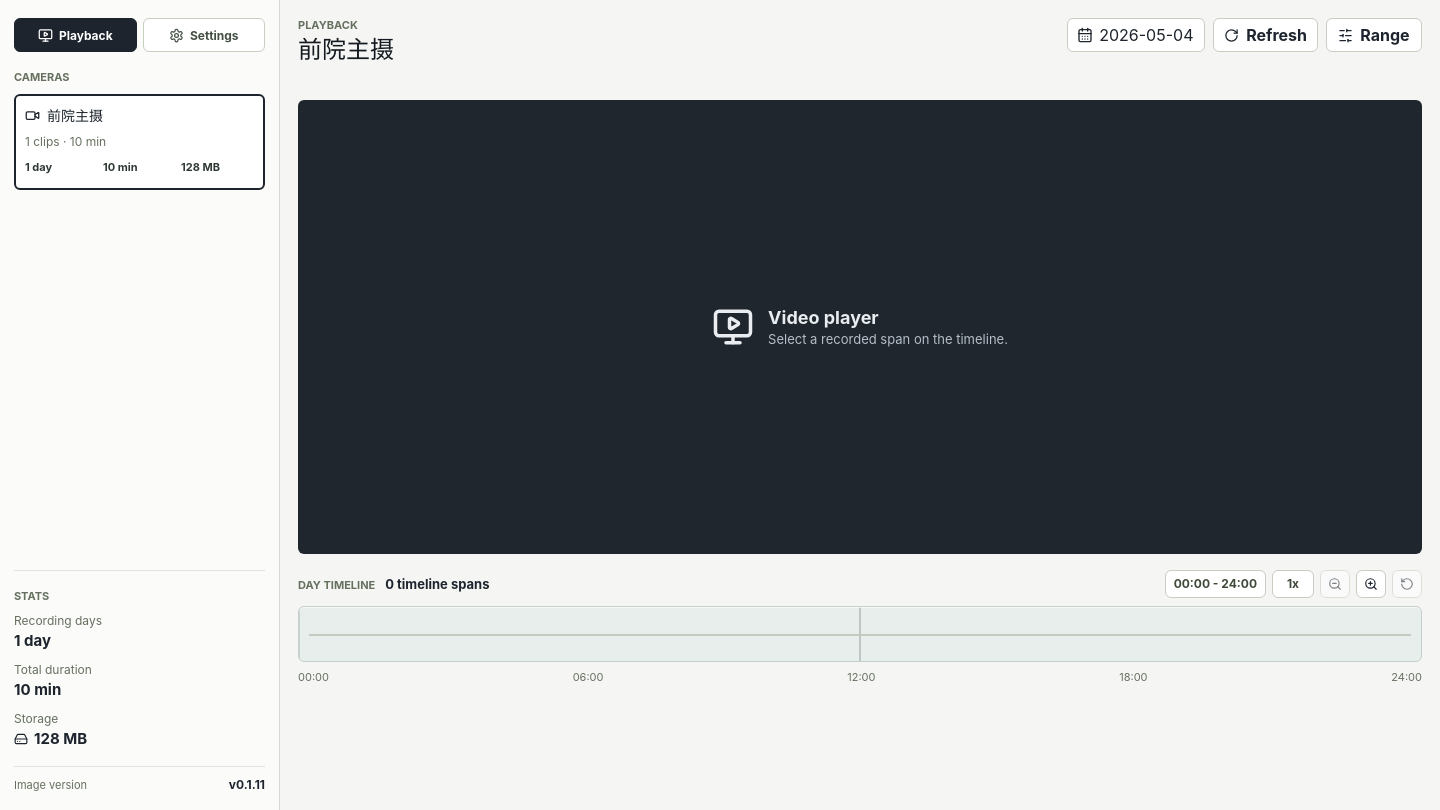
App › changes the app password from settings
The image size is (1440, 810).
Click the button "Settings": (204, 35) [142,18,265,52]
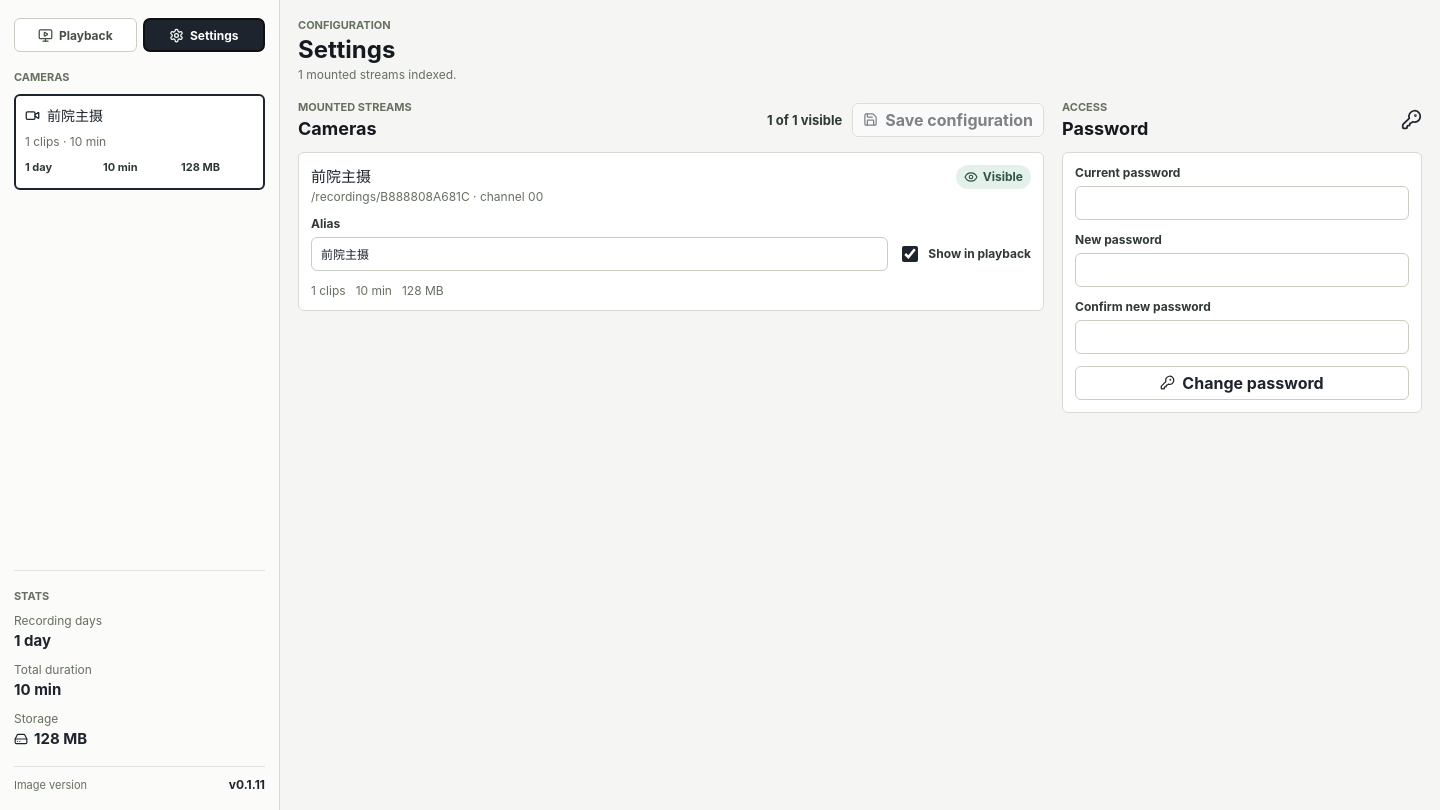
In the password field labelled "Current password": (1242, 203) [1075,186,1409,220], type "old-password"
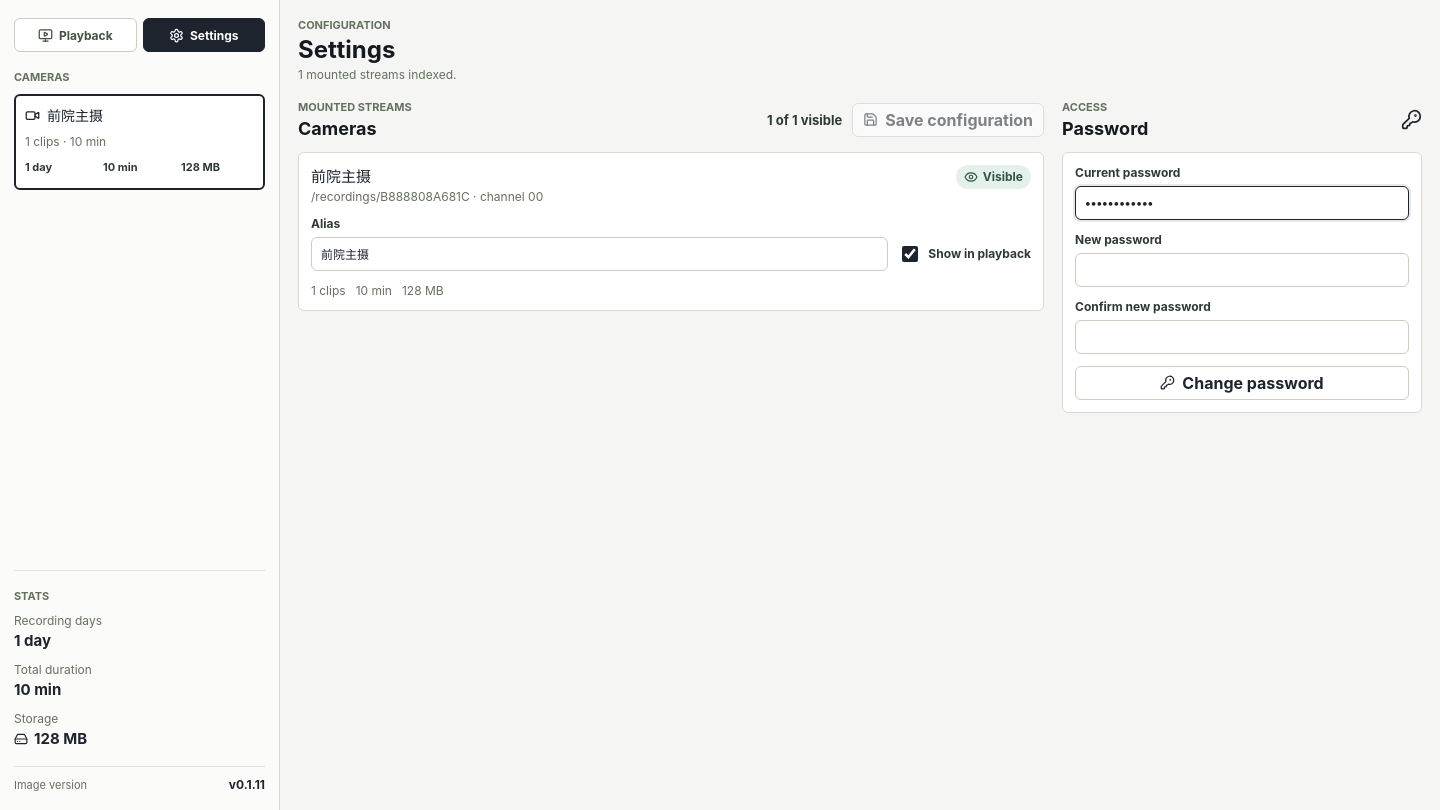
In the password field labelled "New password": (1242, 270) [1075,253,1409,287], type "new-password-123"
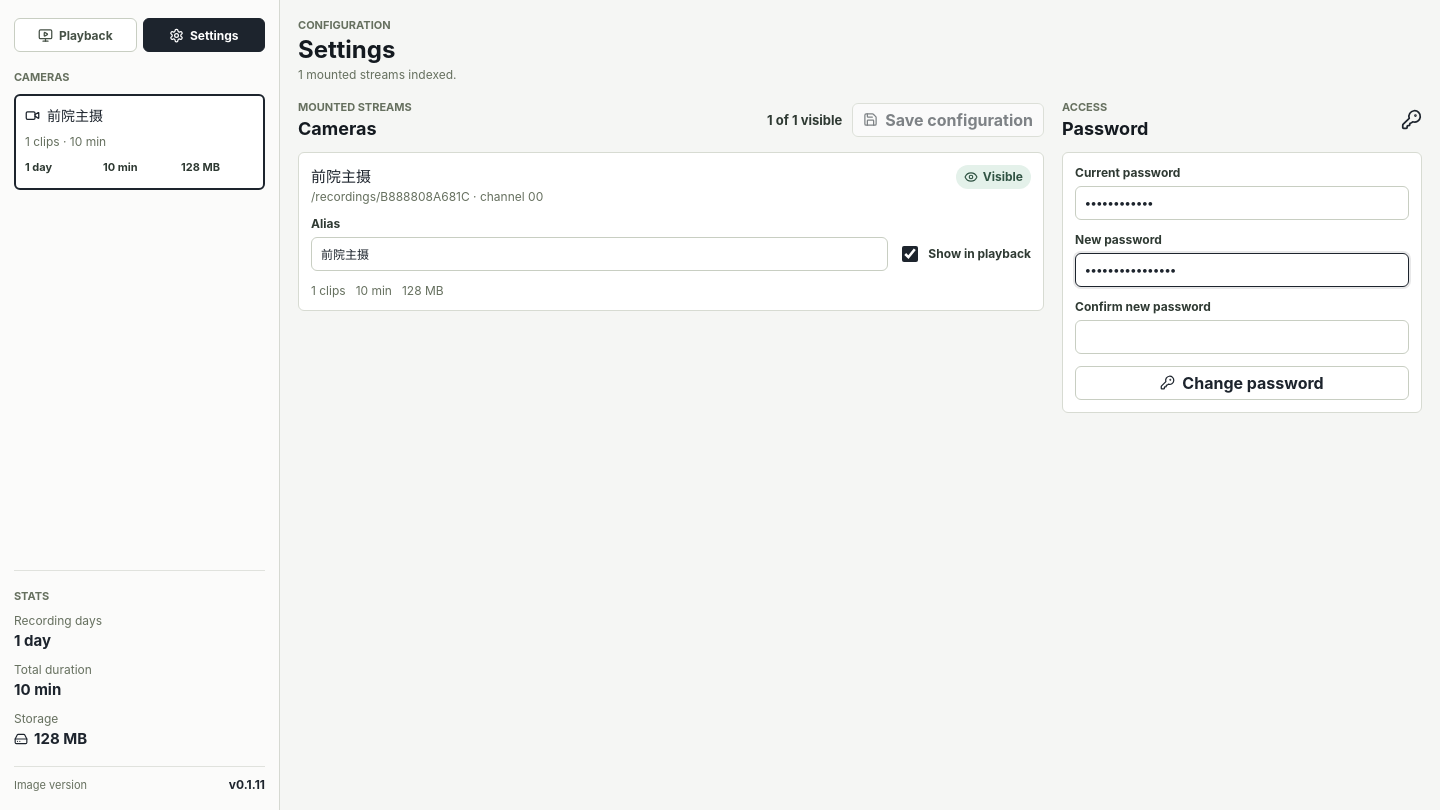
In the password field labelled "Confirm new password": (1242, 337) [1075,320,1409,354], type "new-password-123"
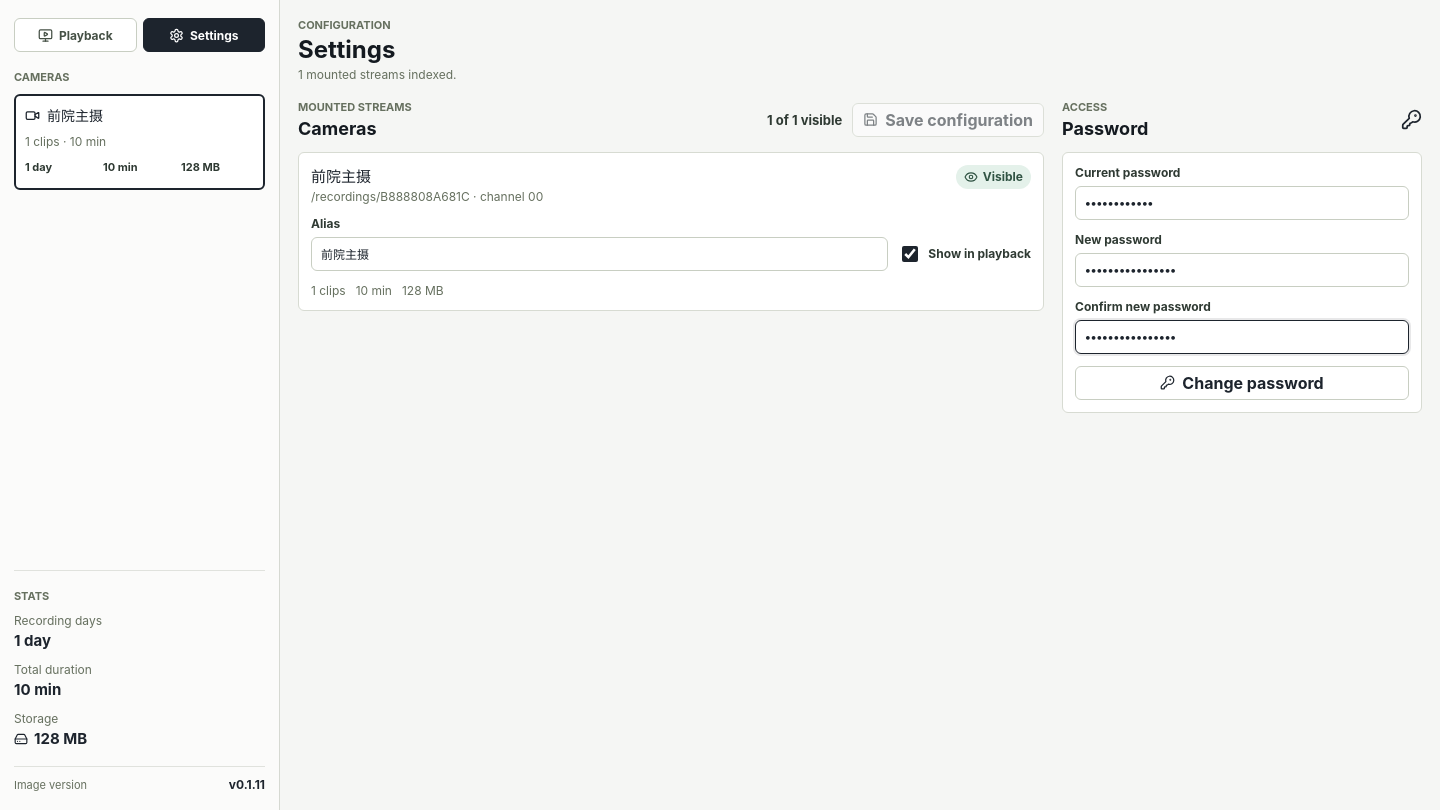
Click the button "Change password": (1242, 383) [1075,366,1409,400]
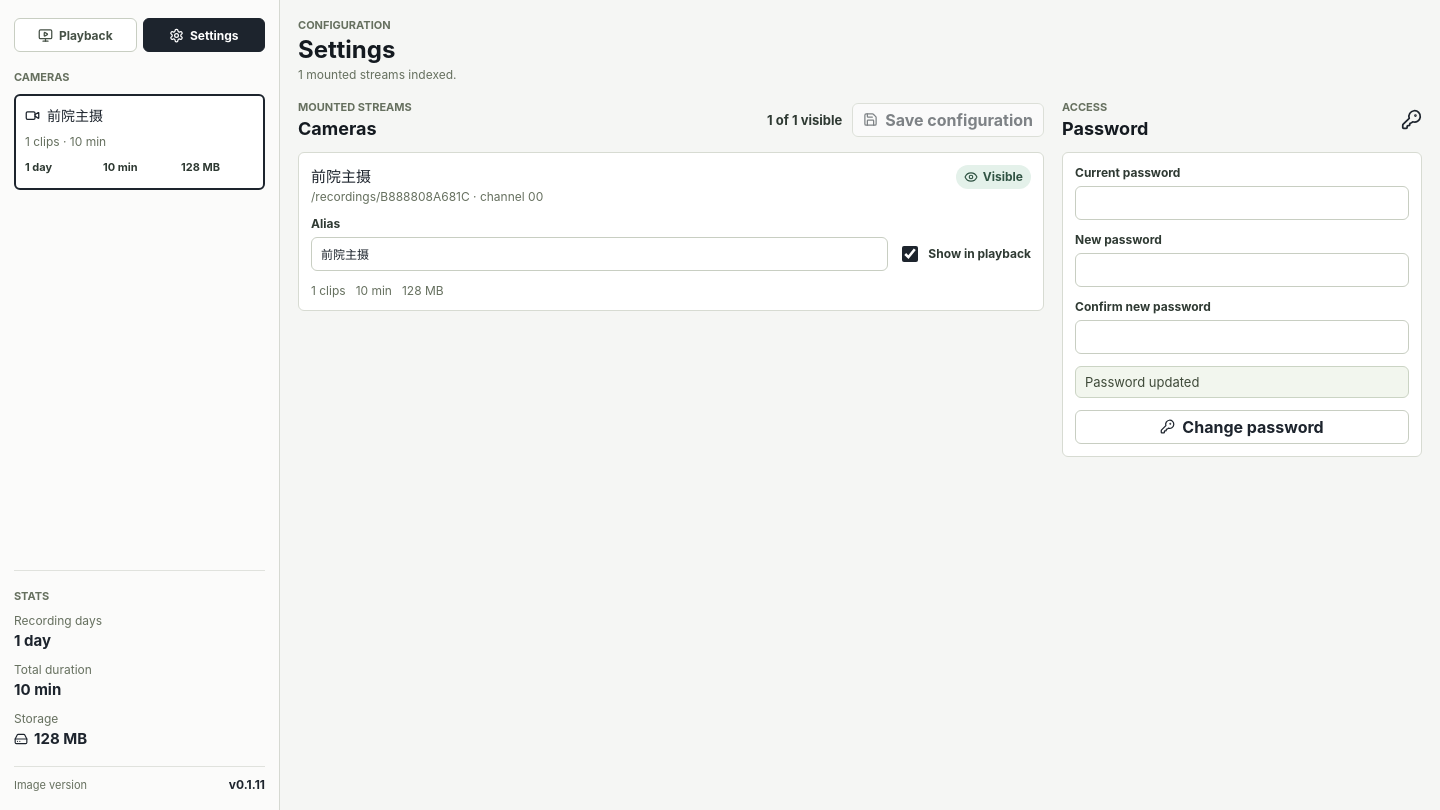
Result: the text "Password updated" is shown at [1075,366,1409,398]
